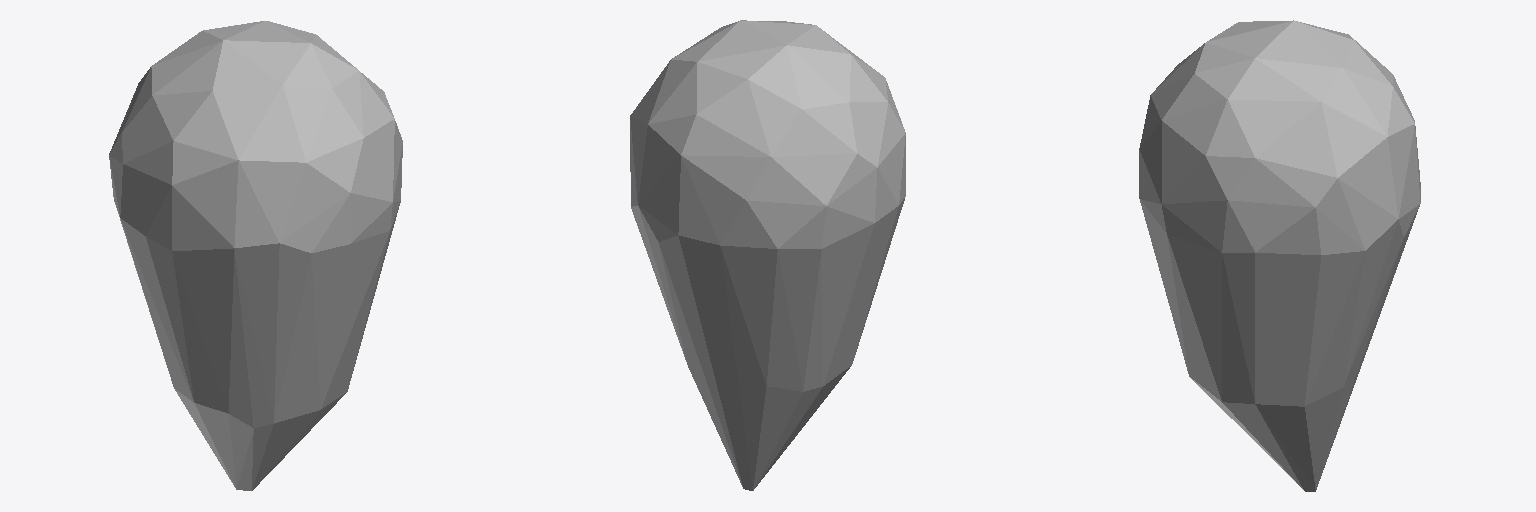
robot.urdf — root:
<robot name="root">
  <link name="link_d3e5e3d4da00a9a578d7927a71f87019_convex_piece_0">
    <inertial>
      <origin rpy="0 0 0" xyz="0 0 0"/>
      <mass value="6.31E-05"/>
      <inertia ixx="2.14E-08" ixy="9.76E-13" ixz="-5.96E-11" iyy="2.14E-08" iyz="1.52E-10" izz="1.24E-08"/>
    </inertial>
    <visual>
      <origin rpy="0 0 0" xyz="0 0 0"/>
      <geometry>
        <mesh filename="d3e5e3d4da00a9a578d7927a71f87019_convex_piece_0.obj" scale="1.0000E+00"/>
      </geometry>
      <material name="">
        <color rgba="7.50E-01 7.50E-01 7.50E-01 1"/>
      </material>
    </visual>
    <collision>
      <origin rpy="0 0 0" xyz="0 0 0"/>
      <geometry>
        <mesh filename="d3e5e3d4da00a9a578d7927a71f87019_convex_piece_0.obj" scale="1.0000E+00"/>
      </geometry>
    </collision>
  </link>
</robot>

--- What the picture shows (computed from the rendered views, not written in the file) ---
3 views of the same robot in one strip: view 1: azimuth 30°, elevation 25°; view 2: azimuth 150°, elevation 25°; view 3: azimuth 270°, elevation 25° (orthographic).
Robot: root — 1 links, 0 joints (none); root link link_d3e5e3d4da00a9a578d7927a71f87019_convex_piece_0; default pose: every joint at zero.
Visible links, largest first — view 1: link_d3e5e3d4da00a9a578d7927a71f87019_convex_piece_0; view 2: link_d3e5e3d4da00a9a578d7927a71f87019_convex_piece_0; view 3: link_d3e5e3d4da00a9a578d7927a71f87019_convex_piece_0.
Link boxes in pixels (x1,y1,x2,y2): link_d3e5e3d4da00a9a578d7927a71f87019_convex_piece_0: (109,21,402,490); link_d3e5e3d4da00a9a578d7927a71f87019_convex_piece_0: (630,20,905,490); link_d3e5e3d4da00a9a578d7927a71f87019_convex_piece_0: (1139,20,1420,491).
Size in the robot's own frame: 0.0457 by 0.0457 by 0.0816 metres.
Meshes: 1 distinct files referenced, 1 mesh visuals loaded (1 OBJ).